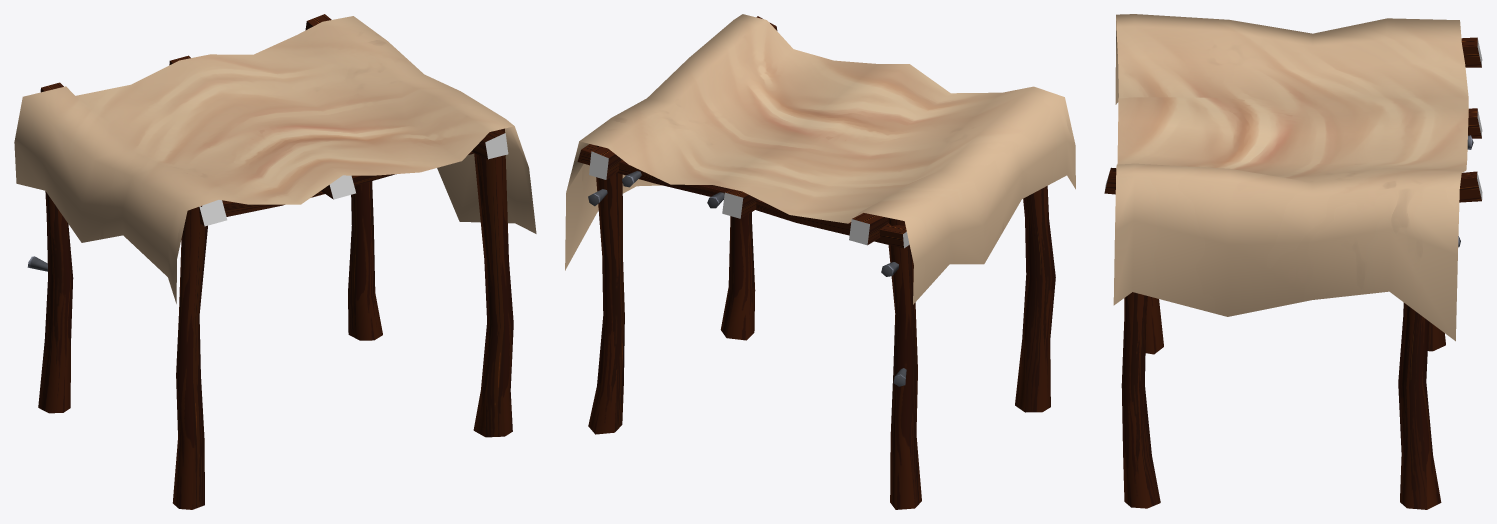
Rendered from SM_PROP_market_v02_01.fbx.
3 renders of one model, left to right at view 1: azimuth 30°, elevation 25°; view 2: azimuth 150°, elevation 25°; view 3: azimuth 270°, elevation 25°, orthographic. The views are drawn at different scales.
Parts seen in each view (by area): view 1: SM_PROP_market_v02_01; view 2: SM_PROP_market_v02_01; view 3: SM_PROP_market_v02_01.
Boxes of the visible parts, x1=… form: SM_PROP_market_v02_01: x1=14, y1=14, x2=536, y2=509; SM_PROP_market_v02_01: x1=565, y1=14, x2=1075, y2=509; SM_PROP_market_v02_01: x1=1104, y1=14, x2=1482, y2=509.
Bounding box in the file's own units: 421 × 348 × 362.
